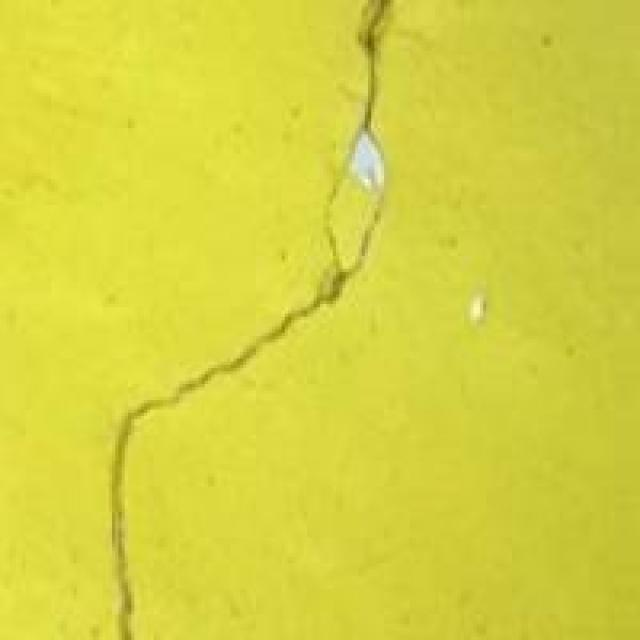crack: (64, 0, 406, 637)
